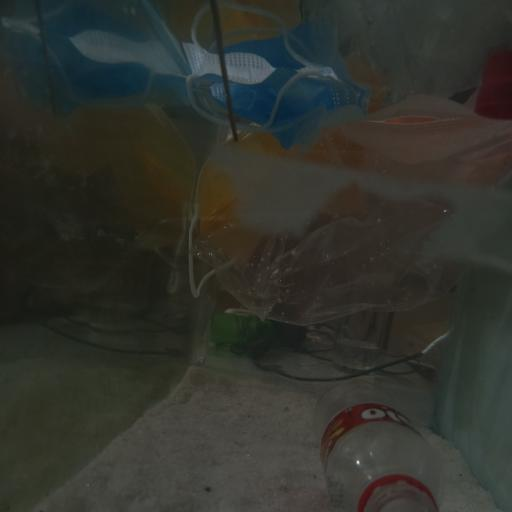mask: (182, 0, 376, 153), (190, 132, 350, 298), (329, 101, 512, 194)
plastic_bag: (192, 181, 462, 329)
plastic_bottle: (312, 382, 437, 512)
